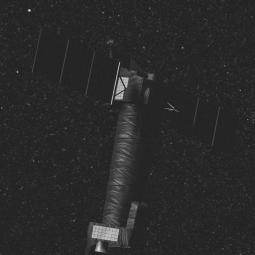xmm_newton: (58, 67, 207, 255)
